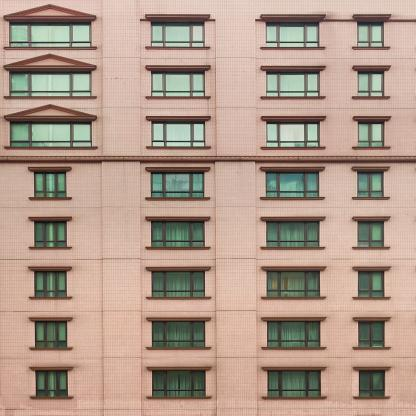Building Outline: (1, 3, 415, 416)
Cornice: (3, 53, 97, 71), (3, 104, 97, 121), (3, 4, 97, 21), (260, 115, 327, 122), (260, 14, 327, 20), (260, 65, 327, 71), (144, 266, 211, 272), (144, 166, 211, 172), (144, 216, 211, 222), (144, 14, 211, 20), (144, 65, 211, 71), (260, 216, 326, 222), (145, 115, 211, 121), (261, 366, 329, 371), (261, 317, 329, 322), (145, 317, 213, 322), (259, 167, 326, 172), (260, 266, 327, 271), (146, 366, 213, 371), (29, 366, 75, 372), (27, 166, 73, 172), (27, 216, 73, 222), (27, 266, 73, 272), (352, 14, 392, 20), (352, 65, 392, 71), (28, 317, 74, 322), (352, 366, 393, 371), (352, 116, 393, 121), (350, 166, 391, 171), (351, 216, 392, 221), (351, 266, 392, 271), (352, 317, 393, 322)
Facade: (0, 0, 415, 416)
Floor: (0, 359, 415, 416), (0, 3, 415, 58), (0, 108, 415, 160), (0, 259, 415, 309), (0, 209, 415, 259), (0, 58, 415, 108), (0, 309, 415, 358), (0, 160, 415, 209)
Floor Slab: (0, 304, 415, 309), (0, 254, 415, 259), (0, 155, 415, 160), (0, 410, 415, 415), (0, 54, 415, 58), (0, 205, 415, 209), (0, 104, 415, 108), (0, 354, 415, 358)
Molding: (1, 156, 416, 160)
Pillar: (102, 160, 142, 416), (216, 160, 256, 416), (102, 0, 141, 156), (215, 19, 256, 156)
Sill: (3, 46, 98, 50), (3, 96, 97, 100), (4, 146, 98, 150), (260, 396, 328, 400), (259, 246, 327, 250), (260, 296, 328, 300), (260, 346, 328, 350), (145, 146, 212, 150), (144, 46, 211, 50), (144, 197, 211, 201), (144, 246, 211, 250), (145, 296, 212, 300), (260, 146, 326, 150), (145, 96, 211, 100), (260, 96, 326, 100), (146, 396, 212, 400), (259, 197, 327, 200), (260, 47, 326, 50), (146, 347, 212, 350), (28, 197, 73, 201), (28, 246, 73, 250), (28, 296, 73, 300), (28, 347, 73, 351), (351, 146, 392, 150), (351, 196, 392, 200), (351, 246, 392, 250), (351, 296, 392, 300), (352, 396, 392, 400), (351, 96, 391, 100), (29, 396, 74, 399), (351, 347, 392, 350)
Window: (10, 21, 92, 47), (10, 70, 92, 96), (10, 121, 92, 146), (268, 370, 321, 397), (152, 371, 205, 397), (267, 221, 320, 247), (152, 221, 205, 247), (267, 271, 320, 297), (152, 271, 205, 297), (268, 321, 321, 347), (152, 321, 205, 347), (152, 121, 204, 147), (267, 22, 320, 47), (151, 22, 204, 47), (267, 72, 320, 97), (152, 72, 205, 97), (267, 122, 320, 147), (266, 172, 319, 197), (151, 172, 204, 197), (34, 322, 67, 348), (33, 172, 67, 197), (33, 272, 67, 297), (33, 222, 67, 247), (35, 371, 67, 396), (358, 221, 385, 247), (358, 271, 385, 297), (358, 321, 385, 347), (359, 371, 385, 397), (357, 172, 384, 197), (357, 22, 384, 47), (358, 71, 385, 96), (358, 122, 385, 147)
